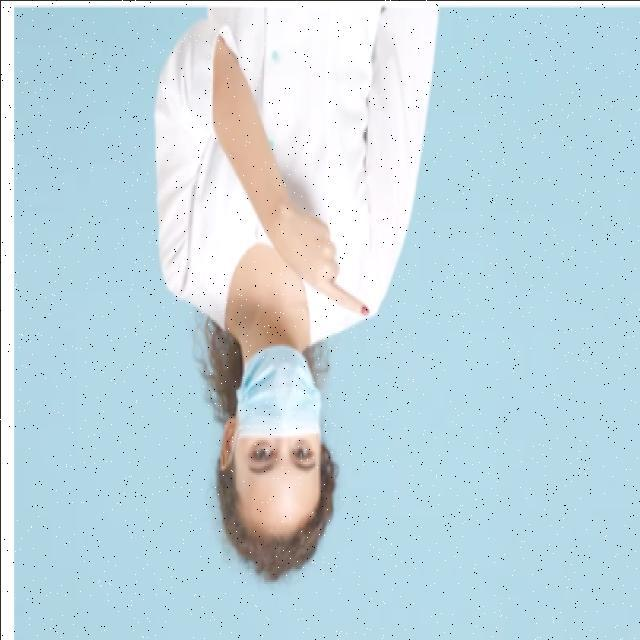face_mask: (220, 347, 322, 539)
